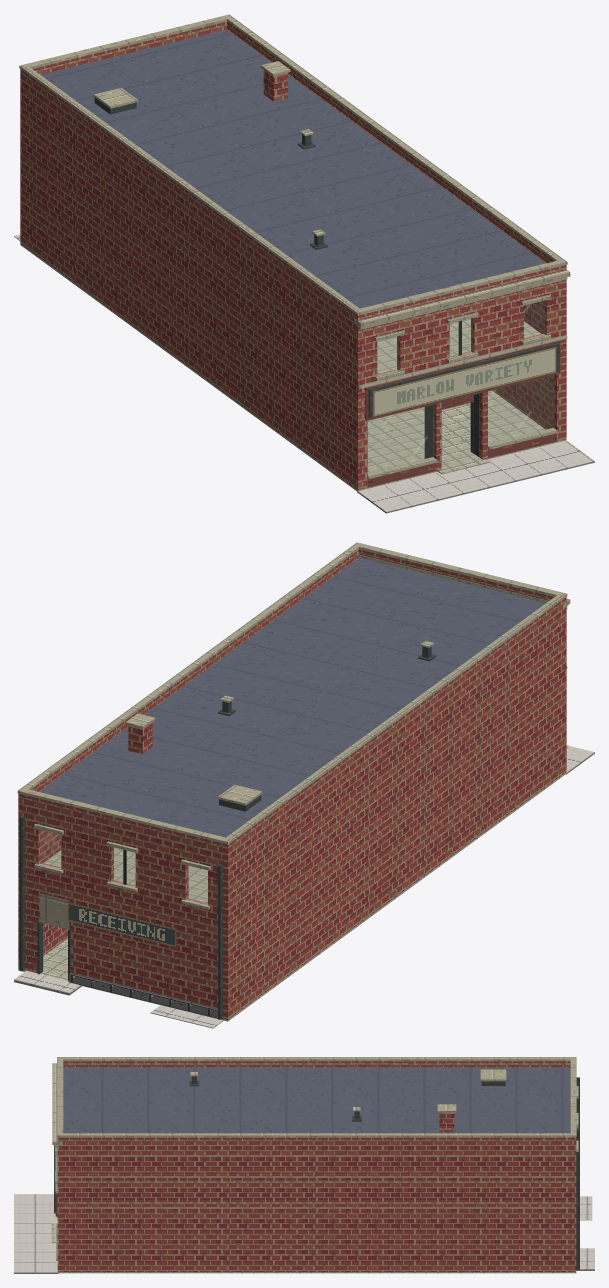
The model's file is marlow-1970-far.glb.
3 views of the same model, one above another, from view 1: azimuth 30°, elevation 25°; view 2: azimuth 150°, elevation 25°; view 3: azimuth 270°, elevation 25° (orthographic). The views are drawn at different scales.
Parts seen in each view (by area): view 1: building_shell, roof_and_parapet, Shared street sidewalk, sign_name; view 2: building_shell, roof_and_parapet, sign_receiving, Rear receiving pad, lot; view 3: building_shell, roof_and_parapet, Shared street sidewalk, Rear receiving pad, lot.
Part boxes in pixels (left/top/right/bottom): building_shell: left=20, top=29, right=567, bottom=491; roof_and_parapet: left=19, top=14, right=570, bottom=329; Shared street sidewalk: left=357, top=440, right=594, bottom=513; sign_name: left=373, top=347, right=556, bottom=416; building_shell: left=18, top=557, right=567, bottom=1021; roof_and_parapet: left=17, top=542, right=570, bottom=854; sign_receiving: left=67, top=902, right=176, bottom=947; Rear receiving pad: left=14, top=970, right=81, bottom=995; lot: left=150, top=1005, right=223, bottom=1028; building_shell: left=51, top=1067, right=579, bottom=1273; roof_and_parapet: left=52, top=1057, right=576, bottom=1147; Shared street sidewalk: left=14, top=1194, right=58, bottom=1273; Rear receiving pad: left=576, top=1248, right=594, bottom=1270; lot: left=580, top=1196, right=592, bottom=1220.
Size of what is drawn, in the model's own units: 10.05 by 9.06 by 31.36.
Materials: 10 (10 with a texture image).
